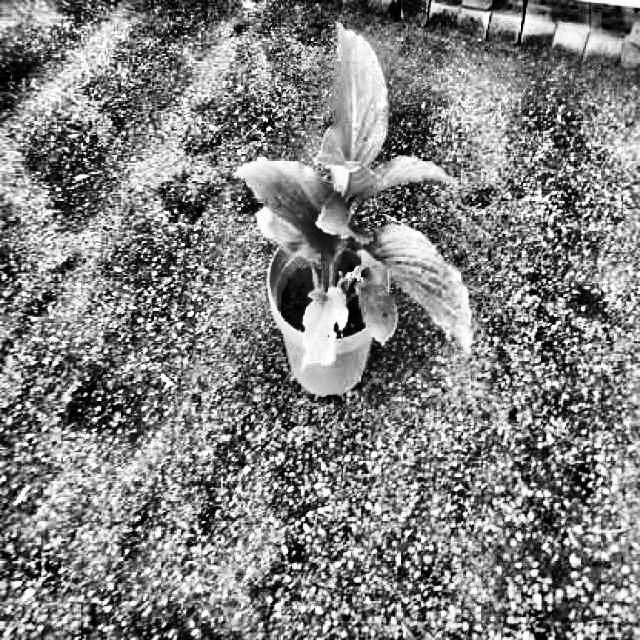plants: (239, 26, 473, 372)
